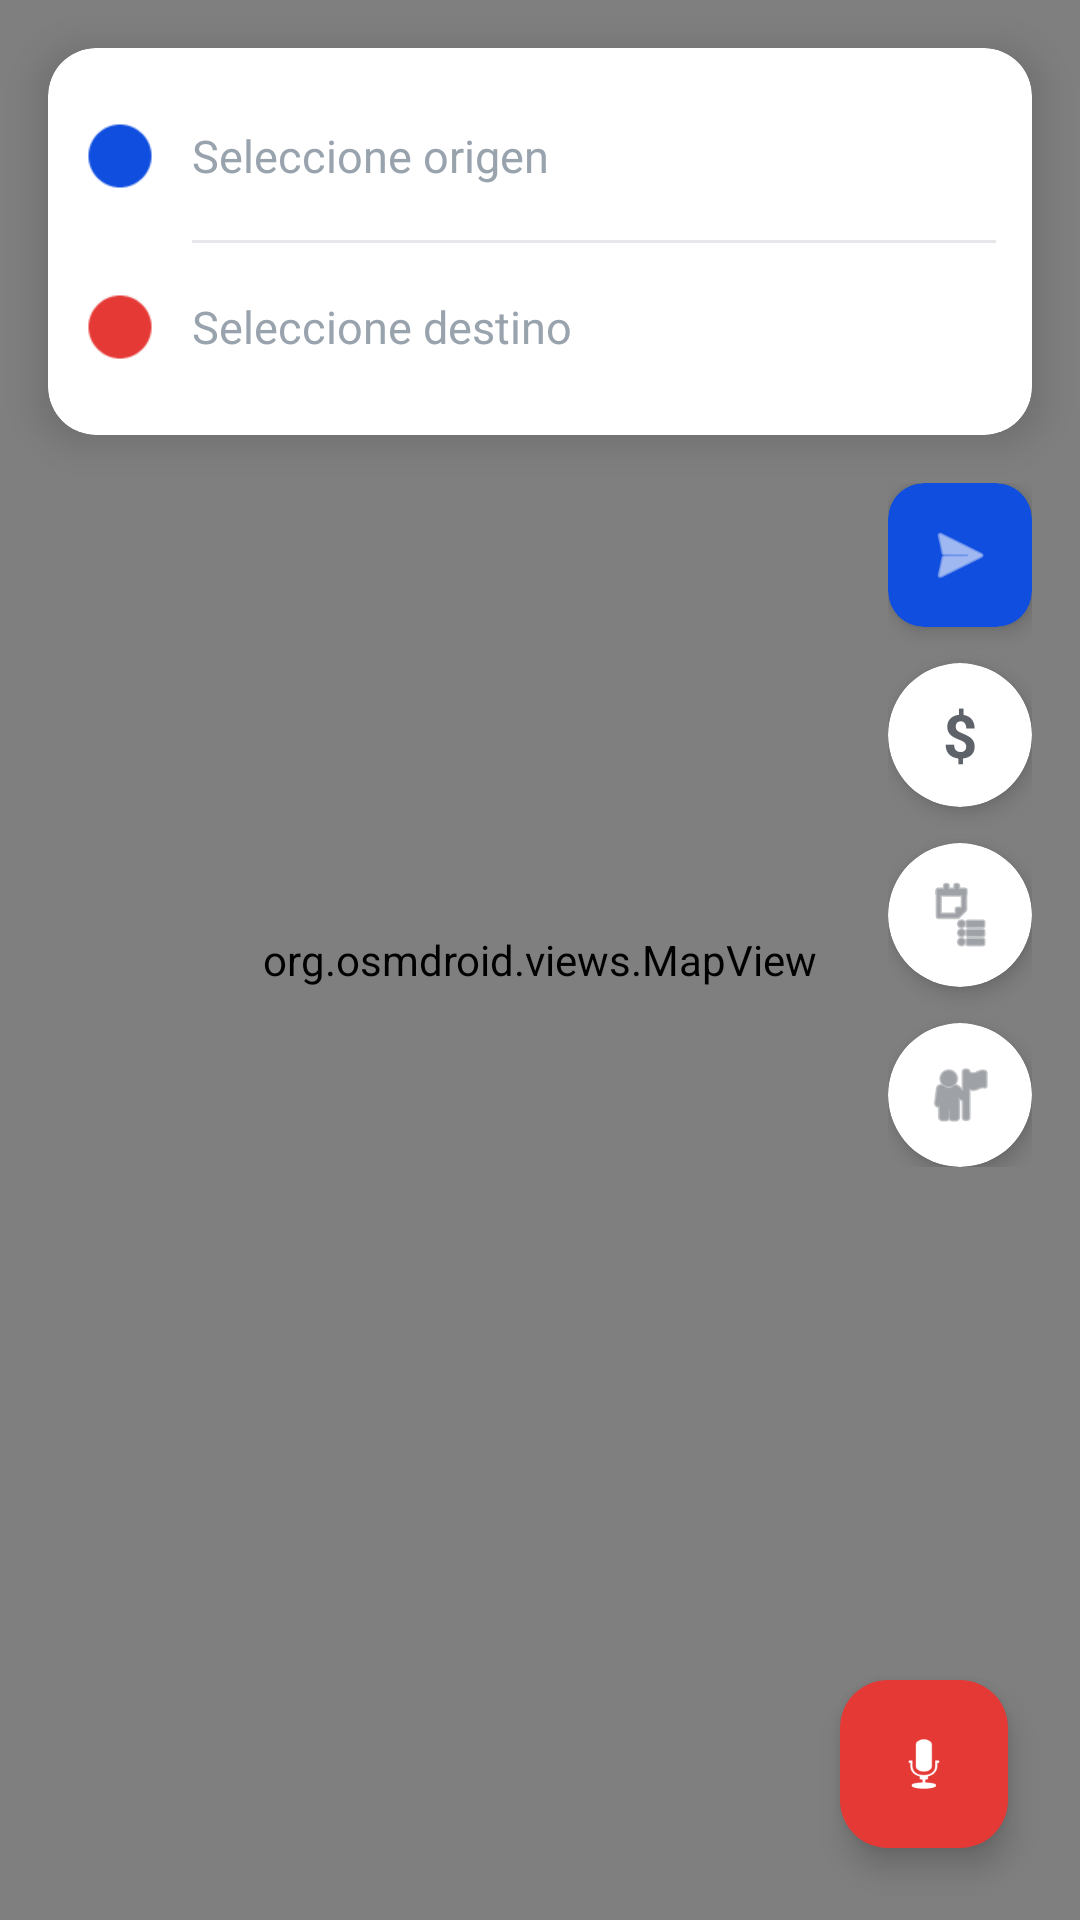

Icons on this 1080 × 1920 Android screen, each with the point to tap as [x,y]:
agenda: [960,915]
myplaces: [961,1095]
send: [961,555]
speak now: [924,1764]
